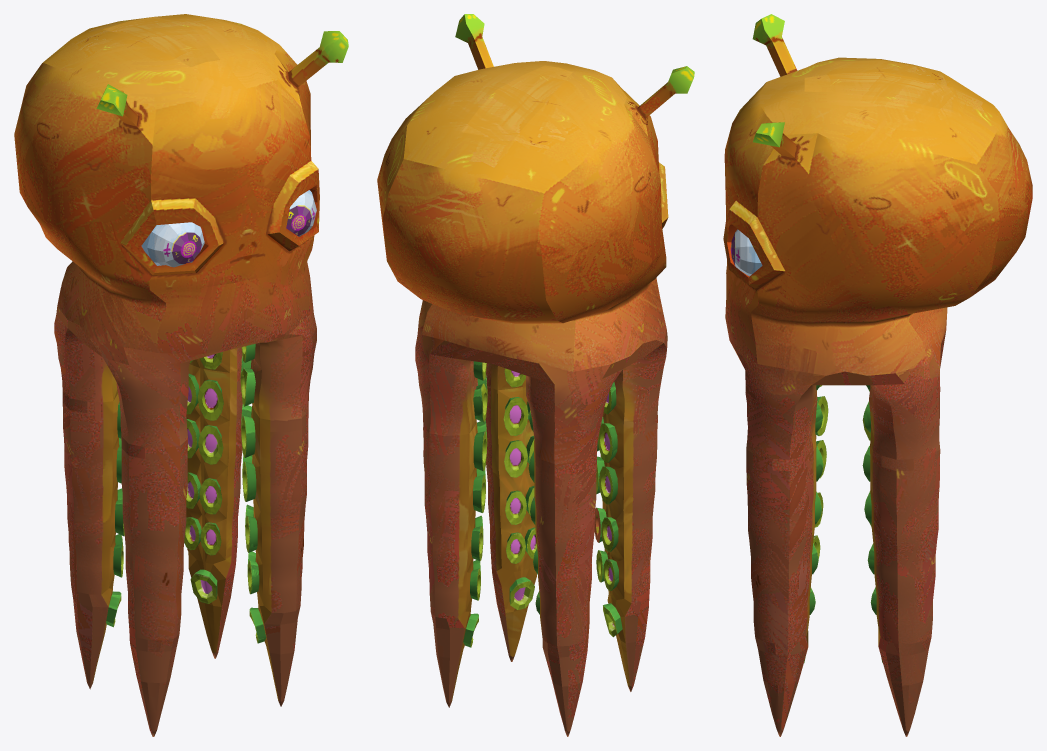
File: Player_Alien_Octopus.fbx
3 views of the same model, side by side, from view 1: azimuth 30°, elevation 25°; view 2: azimuth 150°, elevation 25°; view 3: azimuth 270°, elevation 25° (orthographic). The views are drawn at different scales.
Visible parts, largest first — view 1: Player_Alien_Octopus, R_Eye, L_Eye; view 2: Player_Alien_Octopus; view 3: Player_Alien_Octopus, L_Eye.
Boxes of the visible parts, bbox=[...] form: Player_Alien_Octopus: bbox=[14, 14, 348, 736]; R_Eye: bbox=[141, 222, 204, 267]; L_Eye: bbox=[286, 190, 316, 236]; Player_Alien_Octopus: bbox=[377, 14, 694, 736]; Player_Alien_Octopus: bbox=[723, 14, 1032, 736]; L_Eye: bbox=[730, 229, 762, 276].
Size of the model in its own units: 1.33 by 3.27 by 1.44.
2 materials, 2 textured.
